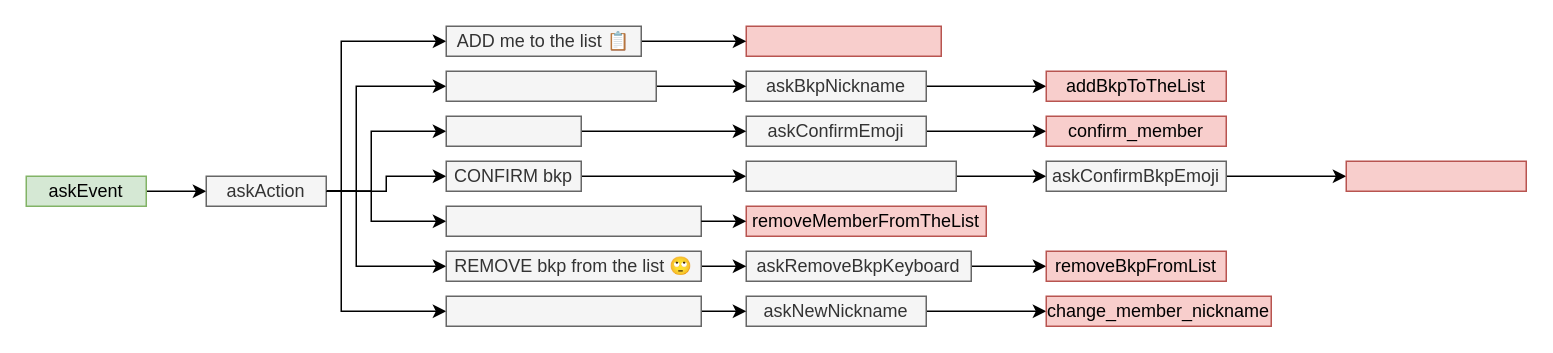
This 1553x353 diagram has some shape labels left out. Here are the shapes that lost their labels. From the top down, the centre of each, then its label:
At pixel 843 40: "addMemberToTheList".
At pixel 550 85: "ADD a bkp to the list 📋".
At pixel 513 130: "CONFIRM me".
At pixel 850 175: "askConfirmBkpKeyboard".
At pixel 1435 175: "confirmBkp".
At pixel 573 220: "REMOVE me from the list 😔".
At pixel 573 310: "Change my nickname 🔤".
